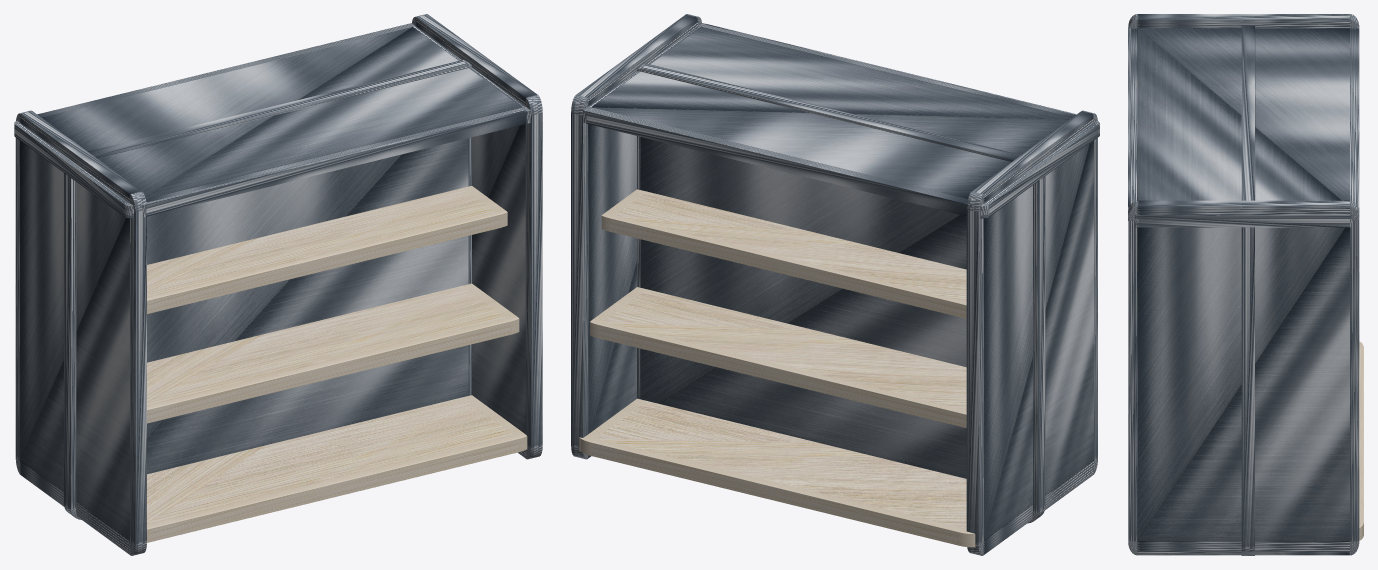
The model's file is Stand2.glb.
The picture shows the model from 3 angles, left to right: view 1: azimuth 30°, elevation 25°; view 2: azimuth 150°, elevation 25°; view 3: azimuth 270°, elevation 25°; orthographic projection. The views are drawn at different scales.
Visible parts, largest first — view 1: Box, Box 4, Box 6, Box 1, Box 2, Box 5, Box 3; view 2: Box, Box 4, Box 6, Box 1, Box 2, Box 5, Box 3; view 3: Box 5, Box 4, Box, Box 6, Box 1.
Boxes of the visible parts, <box> form: Box: <box>64,59,471,519</box>; Box 4: <box>14,23,532,218</box>; Box 6: <box>15,110,146,555</box>; Box 1: <box>147,395,527,542</box>; Box 2: <box>147,283,519,423</box>; Box 5: <box>412,14,542,459</box>; Box 3: <box>147,186,507,313</box>; Box: <box>637,63,1045,523</box>; Box 4: <box>582,23,1099,218</box>; Box 6: <box>966,110,1097,555</box>; Box 1: <box>579,398,975,547</box>; Box 2: <box>590,287,966,427</box>; Box 5: <box>571,14,701,459</box>; Box 3: <box>601,189,966,318</box>; Box 5: <box>1128,200,1359,555</box>; Box 4: <box>1128,25,1359,227</box>; Box: <box>1241,25,1255,555</box>; Box 6: <box>1128,14,1359,28</box>; Box 1: <box>1359,341,1363,540</box>.
Bounding box in the file's own units: 3 × 2.54 × 1.53.
Materials: 7 (7 with a texture image).
